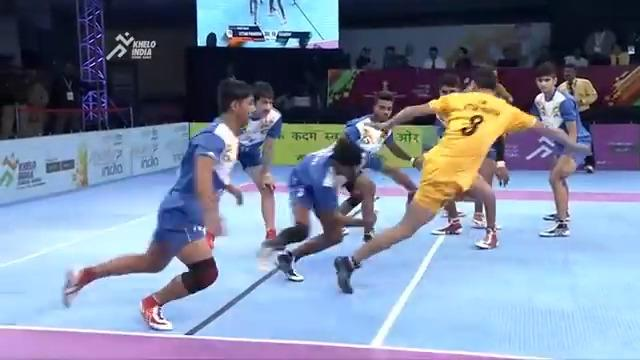Player: (61, 77, 256, 330), (257, 135, 377, 282), (332, 90, 423, 241), (528, 61, 591, 237), (235, 80, 283, 242)
Raider: (333, 63, 592, 293)
referee: (46, 59, 93, 133)
